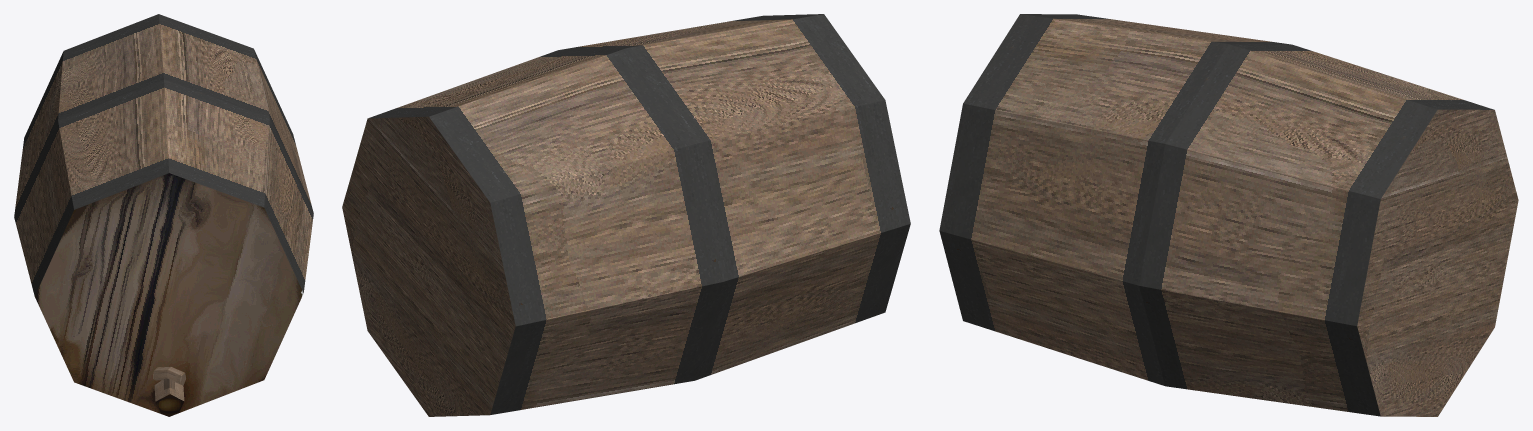
File: barrel-2-keg.glb
3 views of the same model, side by side, from view 1: azimuth 30°, elevation 25°; view 2: azimuth 150°, elevation 25°; view 3: azimuth 270°, elevation 25° (orthographic). The views are drawn at different scales.
Visible parts, largest first — view 1: Barrel_2_keg; view 2: Barrel_2_keg; view 3: Barrel_2_keg.
Boxes of the visible parts, x1=… form: Barrel_2_keg: x1=14, y1=14, x2=313, y2=416; Barrel_2_keg: x1=342, y1=14, x2=910, y2=416; Barrel_2_keg: x1=939, y1=14, x2=1518, y2=416.
Bounding box in the file's own units: 0.8541 × 0.6158 × 0.9434.
1 material, 1 textured.
